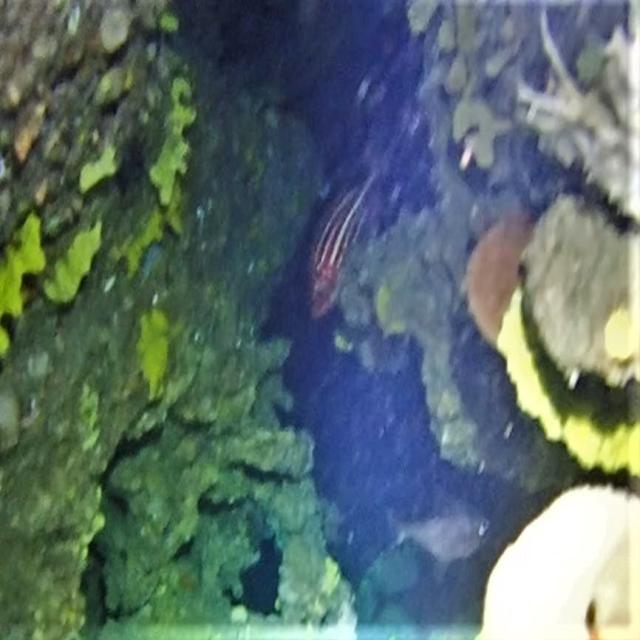Asker Baligi: (288, 146, 392, 312)
